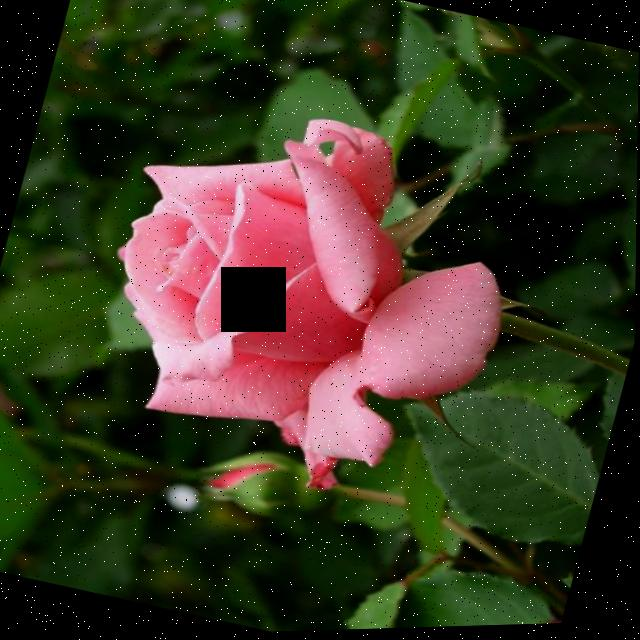rose: (72, 78, 552, 535)
